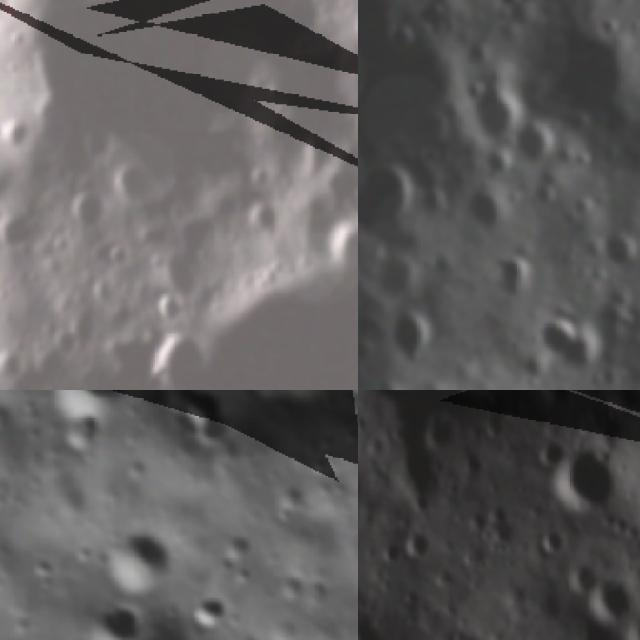crater: (76, 508, 190, 613), (141, 390, 241, 465), (28, 390, 148, 448), (528, 300, 594, 380), (544, 450, 618, 518), (229, 390, 358, 428), (358, 158, 416, 237), (75, 580, 150, 640), (466, 80, 525, 152), (174, 581, 243, 640), (456, 182, 520, 234), (511, 120, 567, 176), (145, 334, 200, 390), (365, 250, 420, 303), (381, 311, 429, 368), (582, 578, 634, 622), (491, 252, 534, 303), (596, 229, 636, 275), (408, 0, 450, 40), (322, 224, 358, 270), (418, 183, 455, 224), (72, 187, 102, 236), (532, 437, 568, 474), (563, 558, 599, 594), (0, 214, 30, 254), (0, 109, 24, 158), (54, 319, 88, 353), (121, 619, 176, 640), (399, 526, 432, 560), (104, 242, 137, 274), (534, 526, 565, 555), (481, 0, 528, 18), (244, 204, 274, 232), (0, 390, 14, 443), (150, 298, 185, 318), (622, 612, 640, 640), (242, 165, 264, 183)
